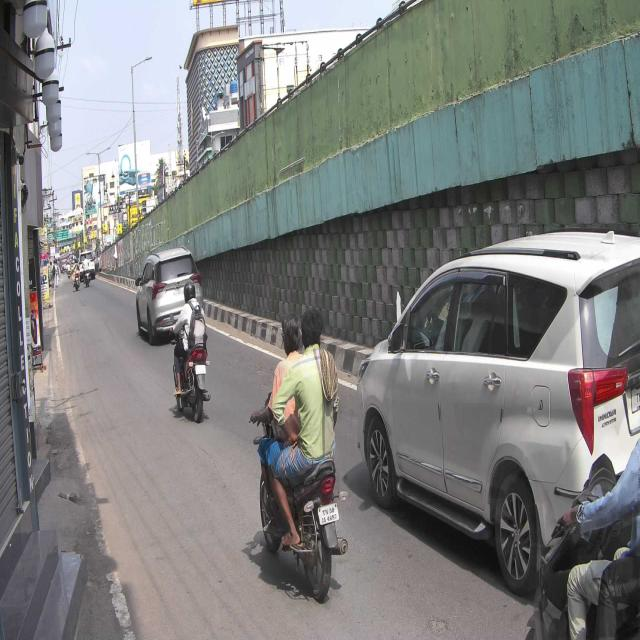double_rider: (250, 305, 351, 605)
single_rider: (170, 276, 212, 422)
